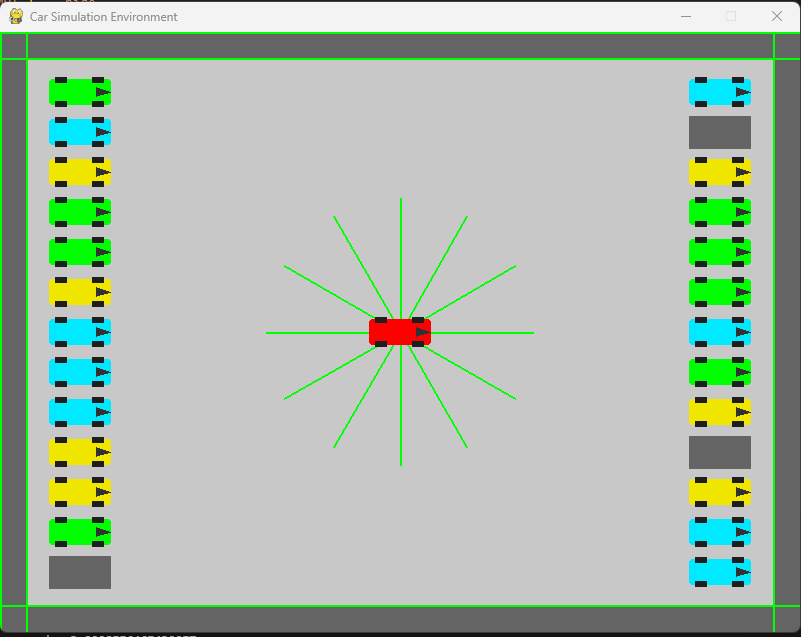ControlledCar: (368, 309, 443, 355)
ParkedCar: (41, 113, 119, 152), (42, 312, 116, 352), (44, 71, 117, 109), (44, 474, 114, 513), (45, 197, 116, 234), (42, 353, 113, 390), (48, 397, 115, 434), (684, 553, 752, 588), (684, 73, 753, 107), (686, 155, 753, 190), (681, 195, 753, 227), (46, 275, 117, 307), (686, 515, 756, 547), (47, 514, 112, 548), (689, 235, 752, 270), (44, 156, 112, 187), (48, 235, 111, 268), (49, 437, 113, 469), (687, 315, 751, 347), (687, 276, 752, 307), (689, 355, 751, 387), (686, 476, 752, 506), (686, 398, 754, 427)
ParkingSpot: (44, 552, 119, 592), (683, 113, 759, 152), (683, 431, 756, 471)
